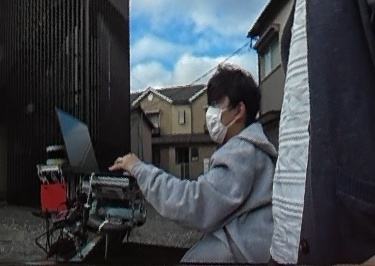person: (171, 72, 278, 266)
